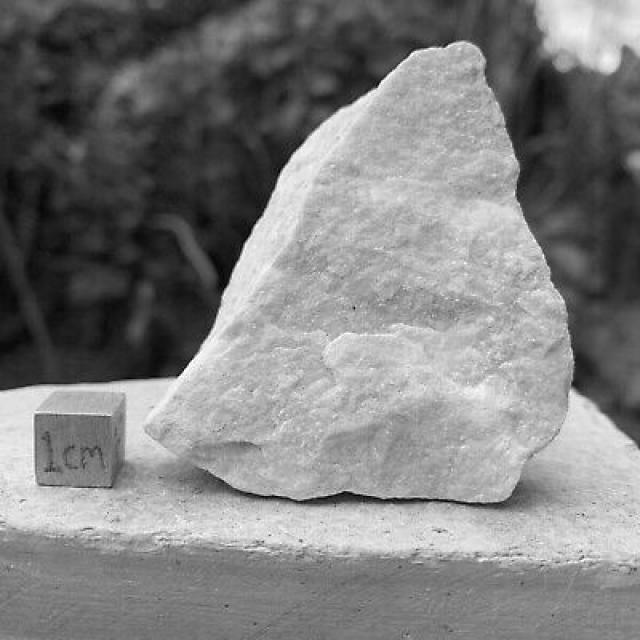Stone: (147, 42, 572, 502)
